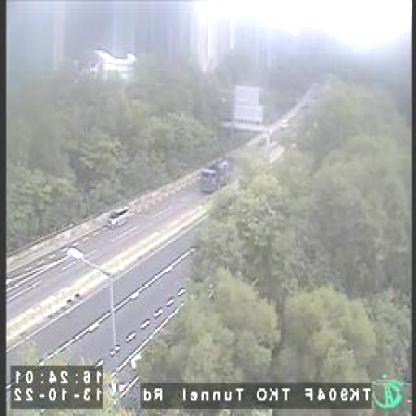Car: (105, 202, 130, 228)
Truck: (198, 155, 233, 194)
